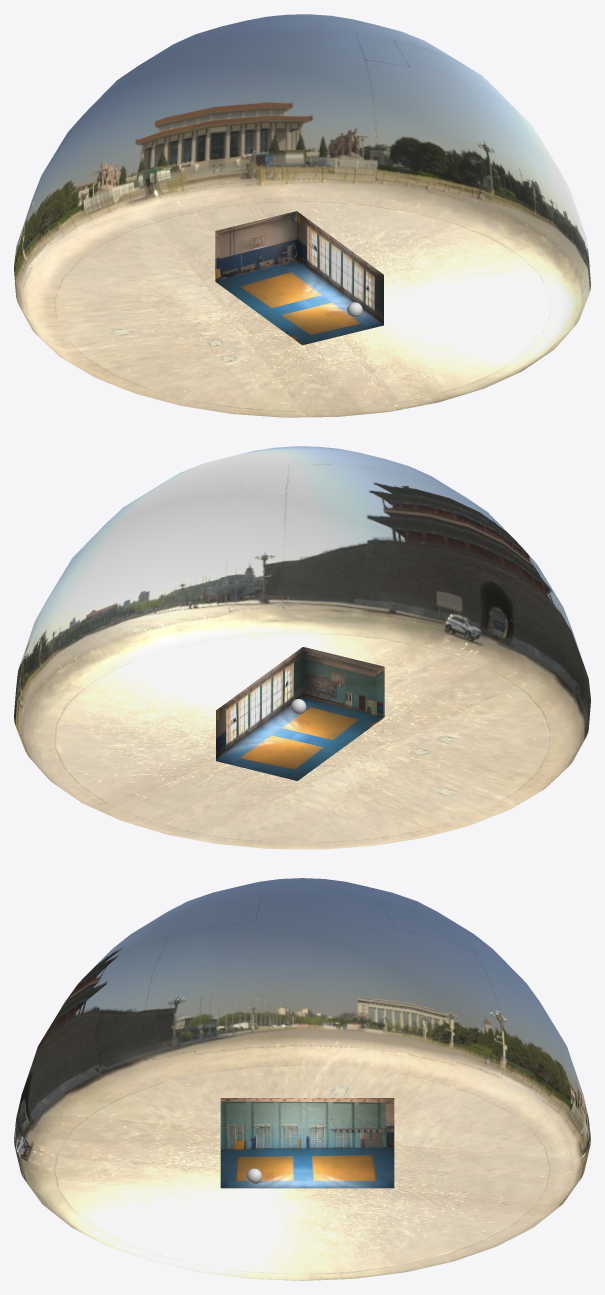
File: Doll and Dom.glb
3 views of the same model, one above another, from view 1: azimuth 30°, elevation 25°; view 2: azimuth 150°, elevation 25°; view 3: azimuth 270°, elevation 25° (orthographic).
Parts seen in each view (by area): view 1: Dome, Cube; view 2: Dome, Cube; view 3: Dome, Cube.
Boxes of the visible parts, x1,y1,x2,y2 form: Dome: (14,14,590,417); Cube: (215,211,383,345); Dome: (14,446,590,849); Cube: (216,647,384,780); Dome: (14,878,590,1280); Cube: (220,1098,394,1188).
Size of the model in its own units: 72.95 by 36.93 by 72.95.
Materials: 5 (3 with a texture image).
